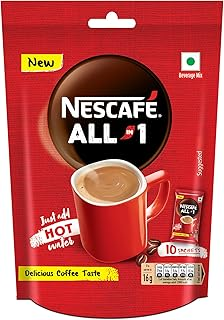Coffee: (1, 3, 224, 320)
